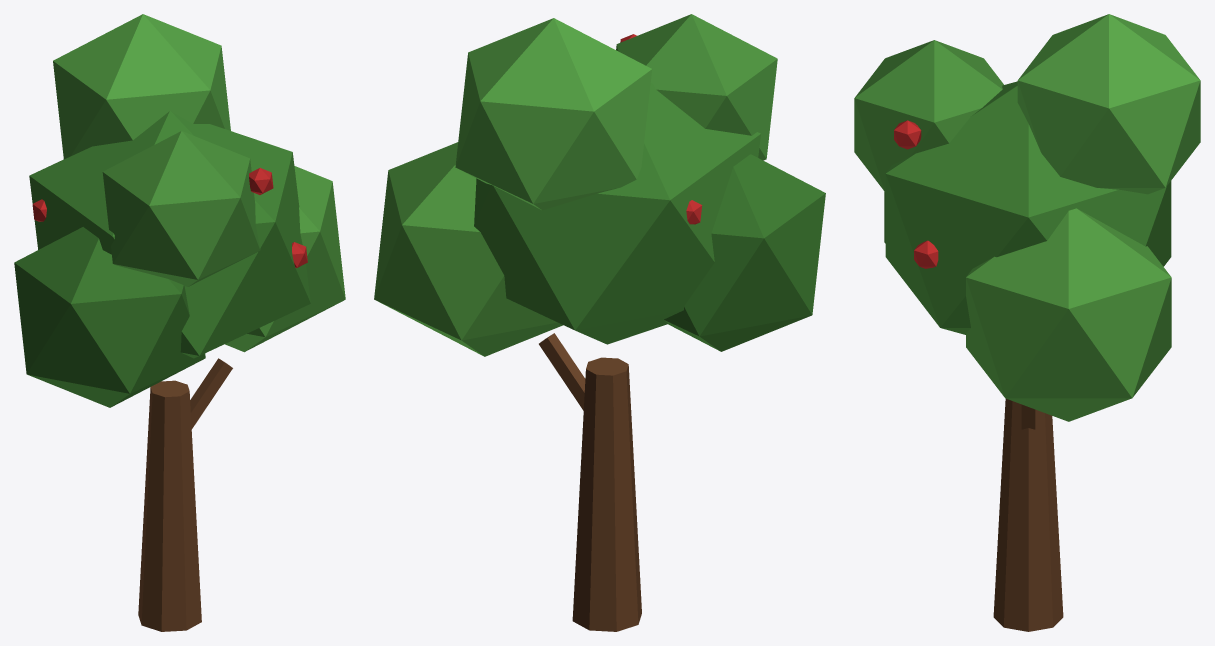
The model's file is tree_round.glb.
The picture shows the model from 3 angles, left to right: view 1: azimuth 30°, elevation 25°; view 2: azimuth 150°, elevation 25°; view 3: azimuth 270°, elevation 25°; orthographic projection. The views are drawn at different scales.
Visible parts, largest first — view 1: gh_tree_round; view 2: gh_tree_round; view 3: gh_tree_round.
Part boxes in pixels (x1=…): gh_tree_round: x1=14, y1=14, x2=345, y2=631; gh_tree_round: x1=374, y1=14, x2=825, y2=631; gh_tree_round: x1=854, y1=14, x2=1200, y2=631.
Size of the model in its own units: 3.17 by 5 by 2.58.
